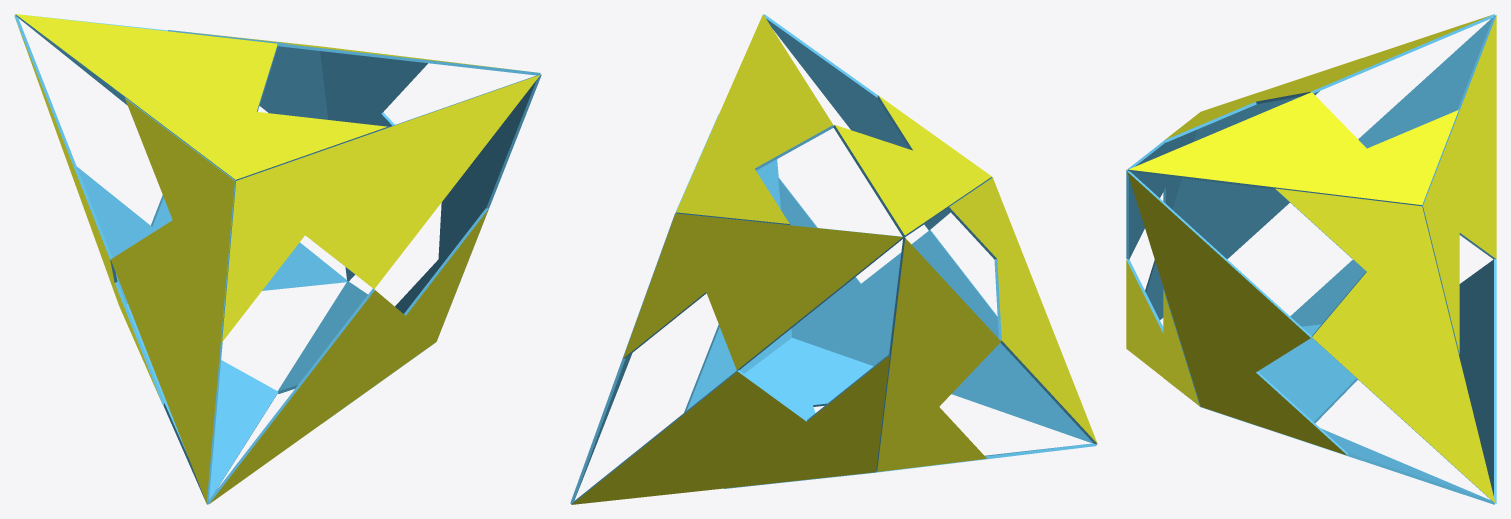
The model's file is TriakisTetrahedronS.glb.
3 renders of one model, left to right at view 1: azimuth 30°, elevation 25°; view 2: azimuth 150°, elevation 25°; view 3: azimuth 270°, elevation 25°, orthographic. The views are drawn at different scales.
Parts seen in each view (by area): view 1: root; view 2: root; view 3: root.
Part boxes in pixels (bbox=[...]): root: bbox=[14, 14, 541, 504]; root: bbox=[570, 14, 1097, 504]; root: bbox=[1126, 14, 1496, 504].
Bounding box in the file's own units: 6.4 × 6.4 × 6.4.
